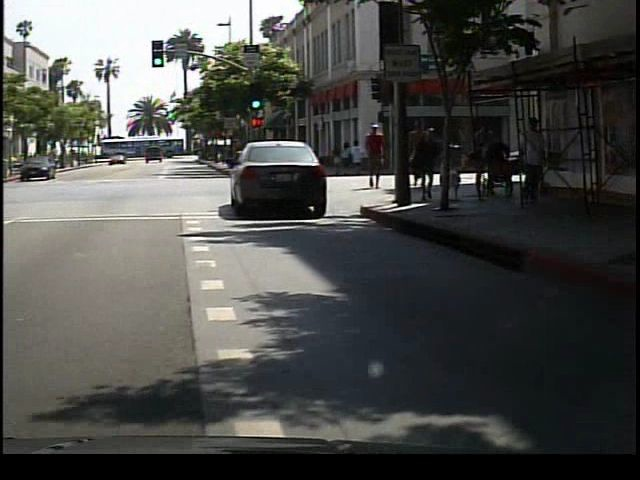person: (364, 119, 396, 198)
